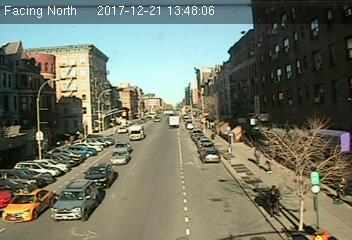car: (1, 184, 56, 224), (50, 180, 100, 222), (84, 163, 113, 189), (111, 148, 130, 166), (201, 149, 220, 161), (114, 141, 132, 148)
truck: (129, 124, 143, 140)
